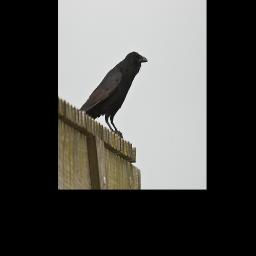Crow: (79, 50, 148, 140)
